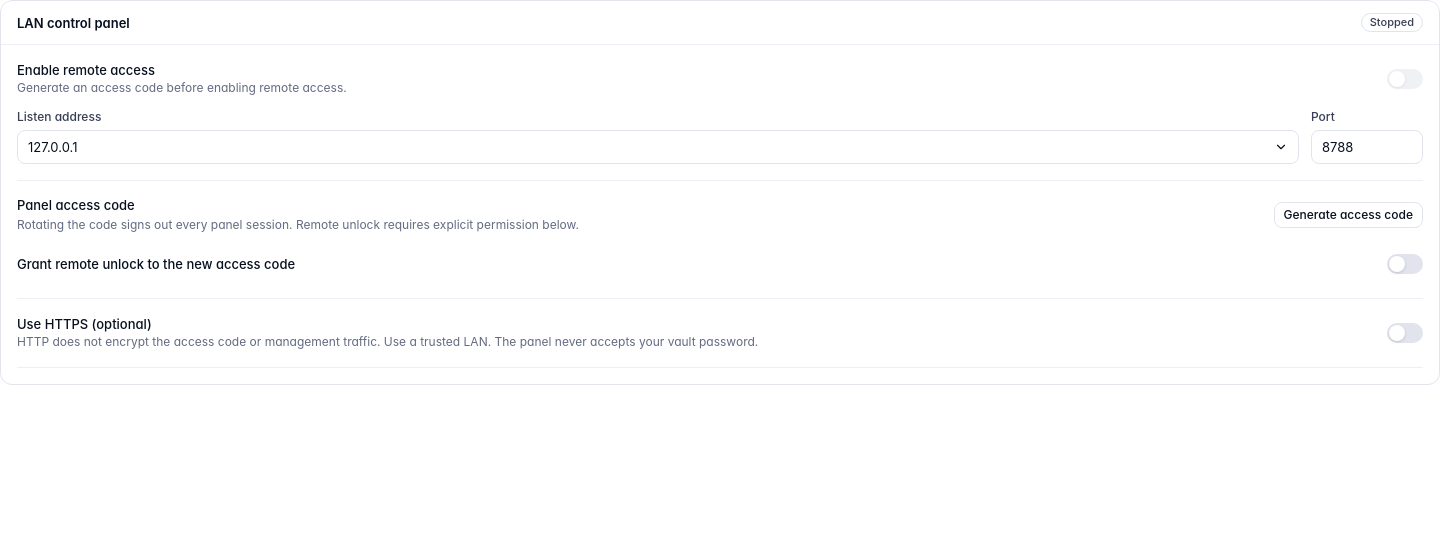
Test: remote unlock requires explicit selection on a newly generated code and can be revoked
Expected: the button "Generate access code" is enabled, [1274,202,1423,228]
Click the switch named "Grant remote unlock to the new access code": click(1405, 264) [1387,254,1423,274]
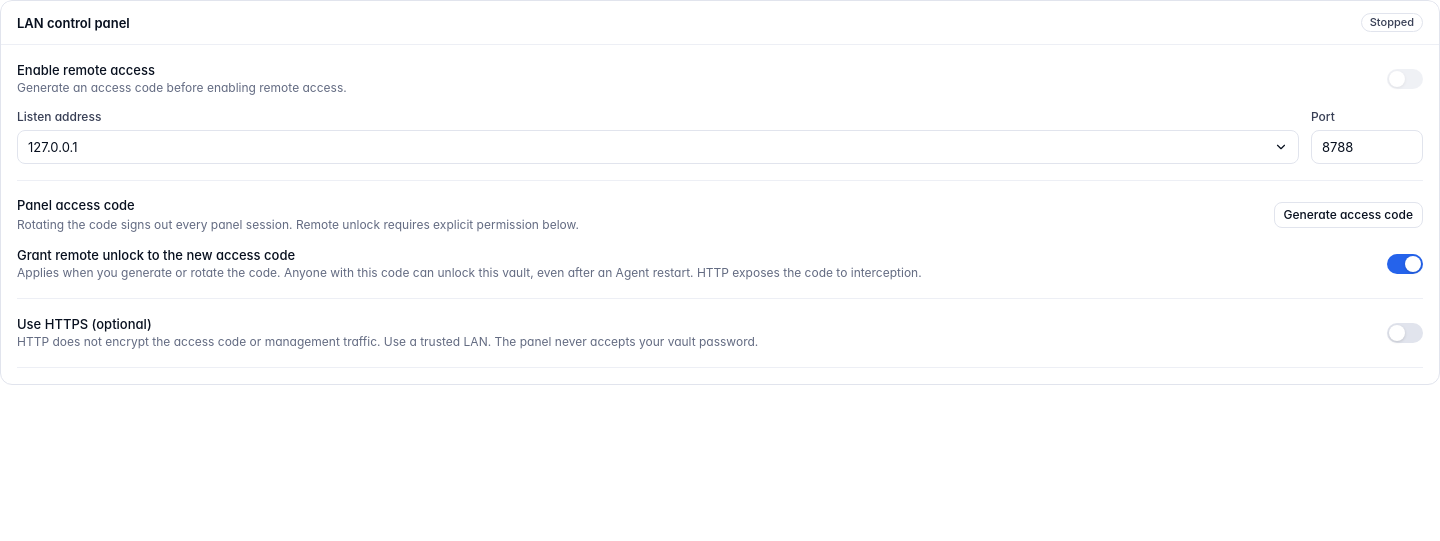
Click the button "Generate access code": click(1348, 215) [1274,202,1423,228]
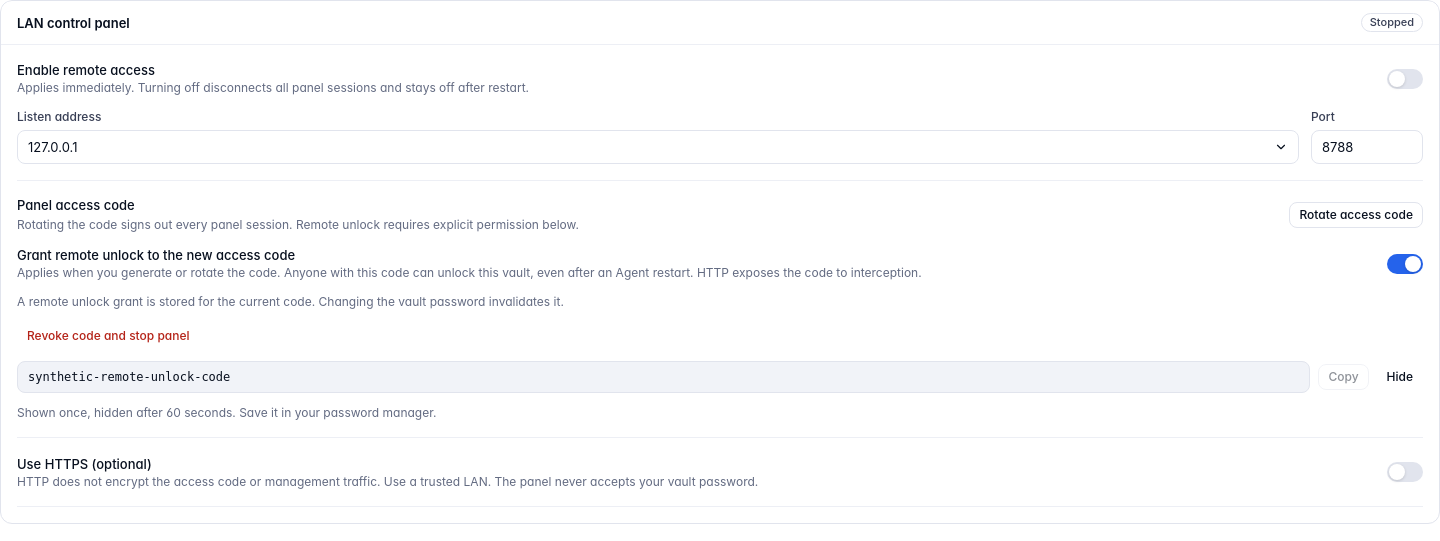
Expected: the button "Revoke code and stop panel" is shown
Expected: the field named "Panel access code" holds "synthetic-remote-unlock-code", [17,361,1310,393]
Click the button "Revoke code and stop panel": click(108, 336) [17,323,200,349]
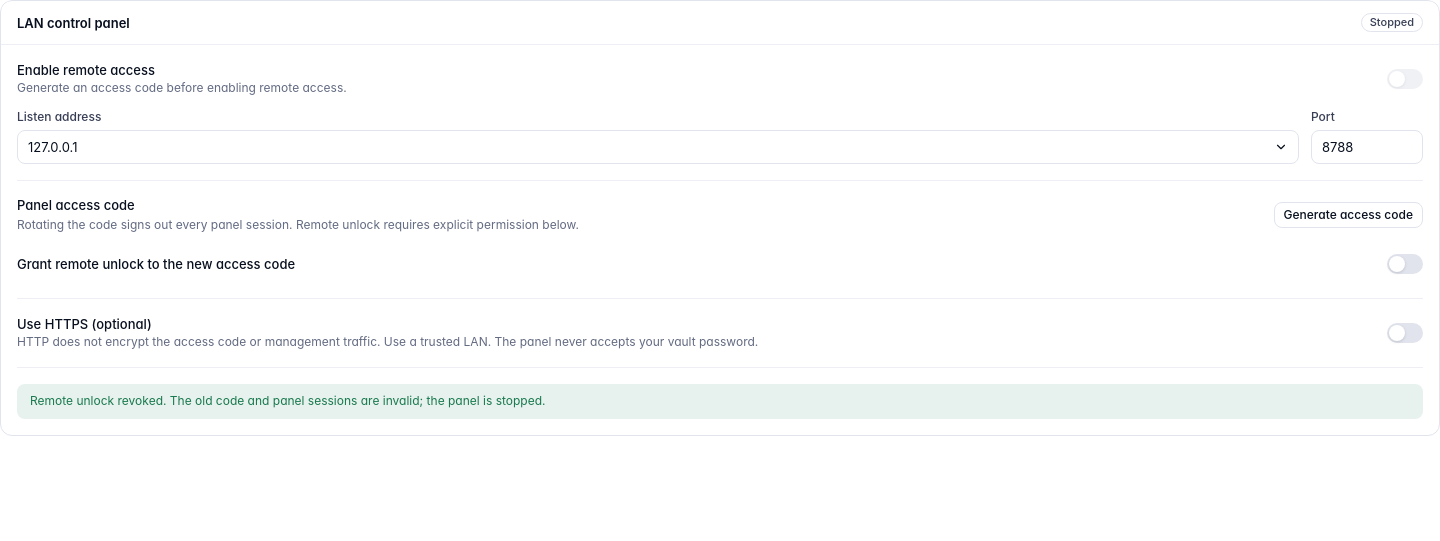
Expected: the button "Generate access code" is shown, [1274,202,1423,228]
Expected: the element with class "access-code" is gone
Expected: the message shows "Remote unlock revoked", [30,393,546,408]
